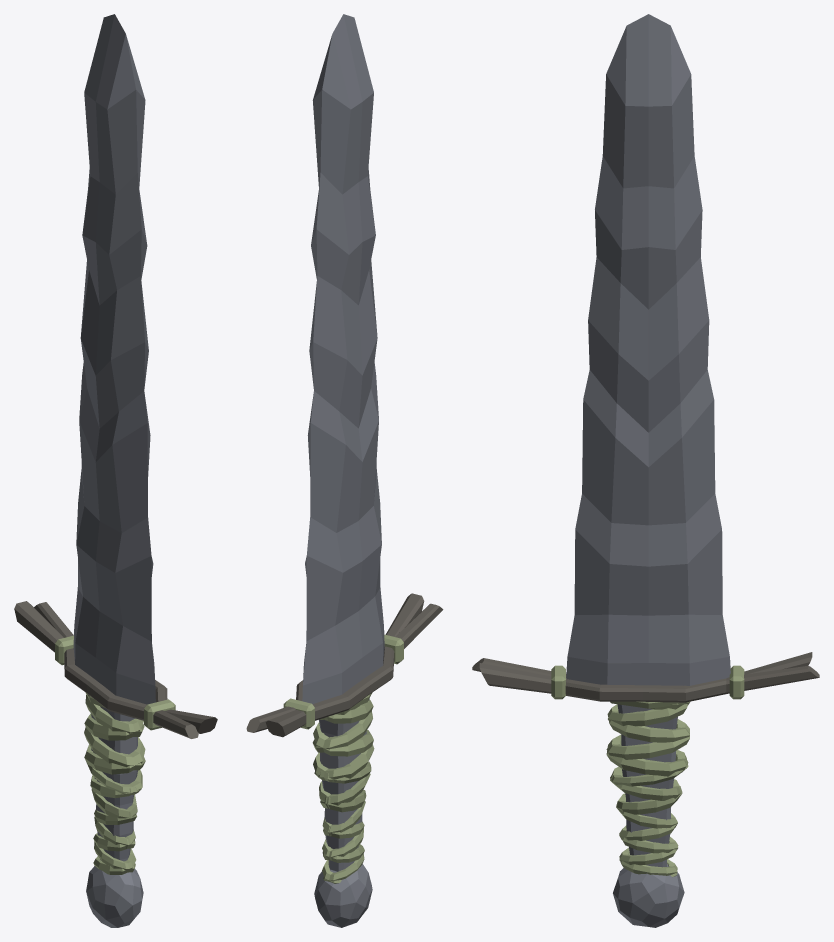
The model's file is Basic_Stone_Sword.fbx.
3 views of the same model, side by side, from view 1: azimuth 30°, elevation 25°; view 2: azimuth 150°, elevation 25°; view 3: azimuth 270°, elevation 25° (orthographic).
Visible parts, largest first — view 1: Basic_Stone_Sword; view 2: Basic_Stone_Sword; view 3: Basic_Stone_Sword.
Part boxes in pixels (bbox=[...]): Basic_Stone_Sword: bbox=[14, 14, 217, 927]; Basic_Stone_Sword: bbox=[246, 14, 443, 927]; Basic_Stone_Sword: bbox=[472, 14, 819, 927].
Bounding box in the file's own units: 7.39 × 114 × 39.38.
